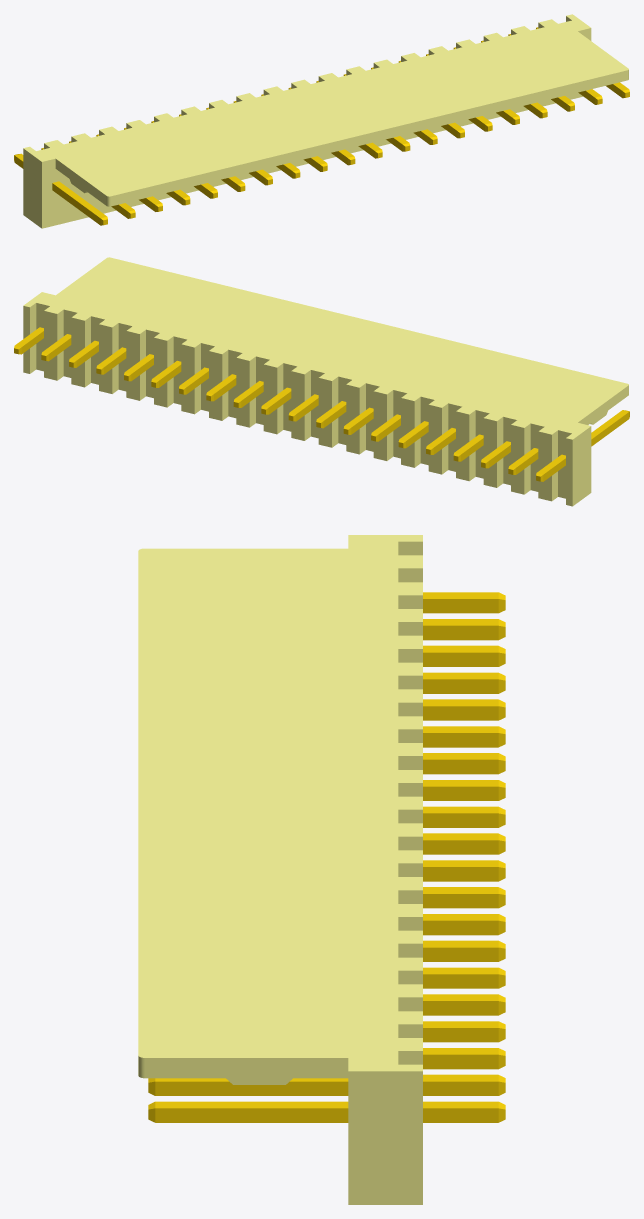
Rendered from DS1070-20 (WF-20 CONNFLY).obj.
3 renders of one model, top to bottom at view 1: azimuth 30°, elevation 25°; view 2: azimuth 150°, elevation 25°; view 3: azimuth 270°, elevation 25°, orthographic. The views are drawn at different scales.
Parts seen in each view (by area): view 1: DS1070-20_(WF-20_CONNFLY); view 2: DS1070-20_(WF-20_CONNFLY); view 3: DS1070-20_(WF-20_CONNFLY).
Boxes of the visible parts, x1,y1,x2,y2 form: DS1070-20_(WF-20_CONNFLY): [14, 14, 629, 228]; DS1070-20_(WF-20_CONNFLY): [14, 257, 629, 506]; DS1070-20_(WF-20_CONNFLY): [138, 535, 505, 1204].
Size of the model in its own units: 0.0298 by 0.00346 by 0.00863.
